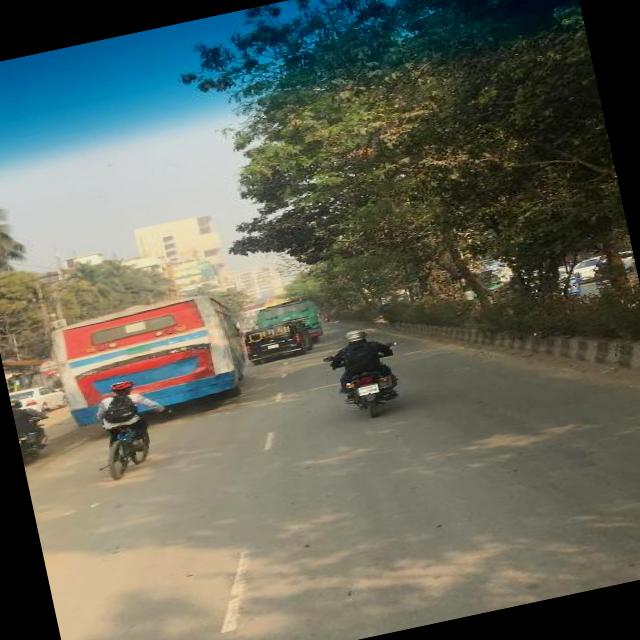bus: (38, 286, 254, 432), (256, 296, 323, 348)
car: (8, 380, 68, 419), (571, 248, 632, 280)
motorcycle: (322, 321, 414, 427), (10, 393, 54, 462), (590, 248, 624, 286)
truck: (506, 260, 580, 308), (240, 316, 312, 364)
